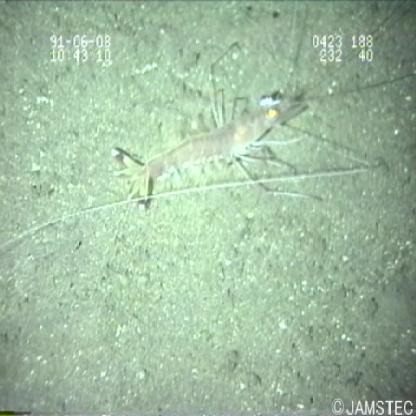Bio: (94, 15, 382, 214)
